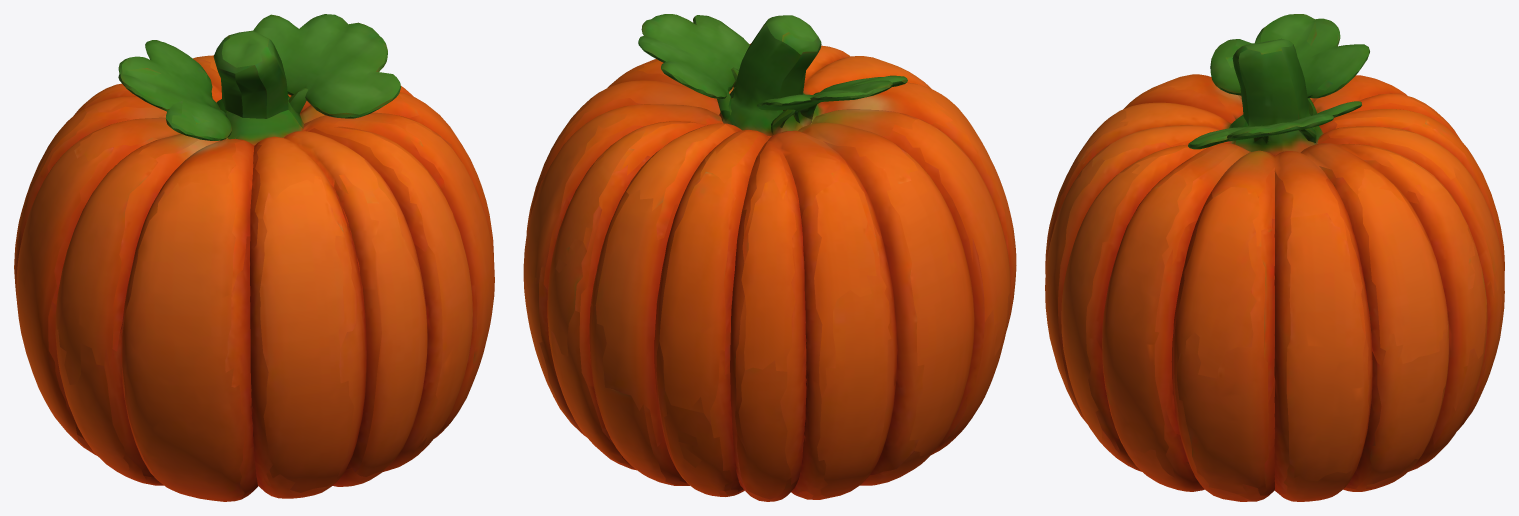
File: x-pumpkin.glb
3 views of the same model, side by side, from view 1: azimuth 30°, elevation 25°; view 2: azimuth 150°, elevation 25°; view 3: azimuth 270°, elevation 25° (orthographic). The views are drawn at different scales.
Visible parts, largest first — view 1: geometry_0; view 2: geometry_0; view 3: geometry_0.
Boxes of the visible parts, left/top/right/bottom form: geometry_0: left=14, top=14, right=494, bottom=501; geometry_0: left=523, top=14, right=1016, bottom=501; geometry_0: left=1045, top=14, right=1504, bottom=501.
Size of the model in its own units: 0.3 by 0.2884 by 0.2954.
Materials: 1 (1 with a texture image).
